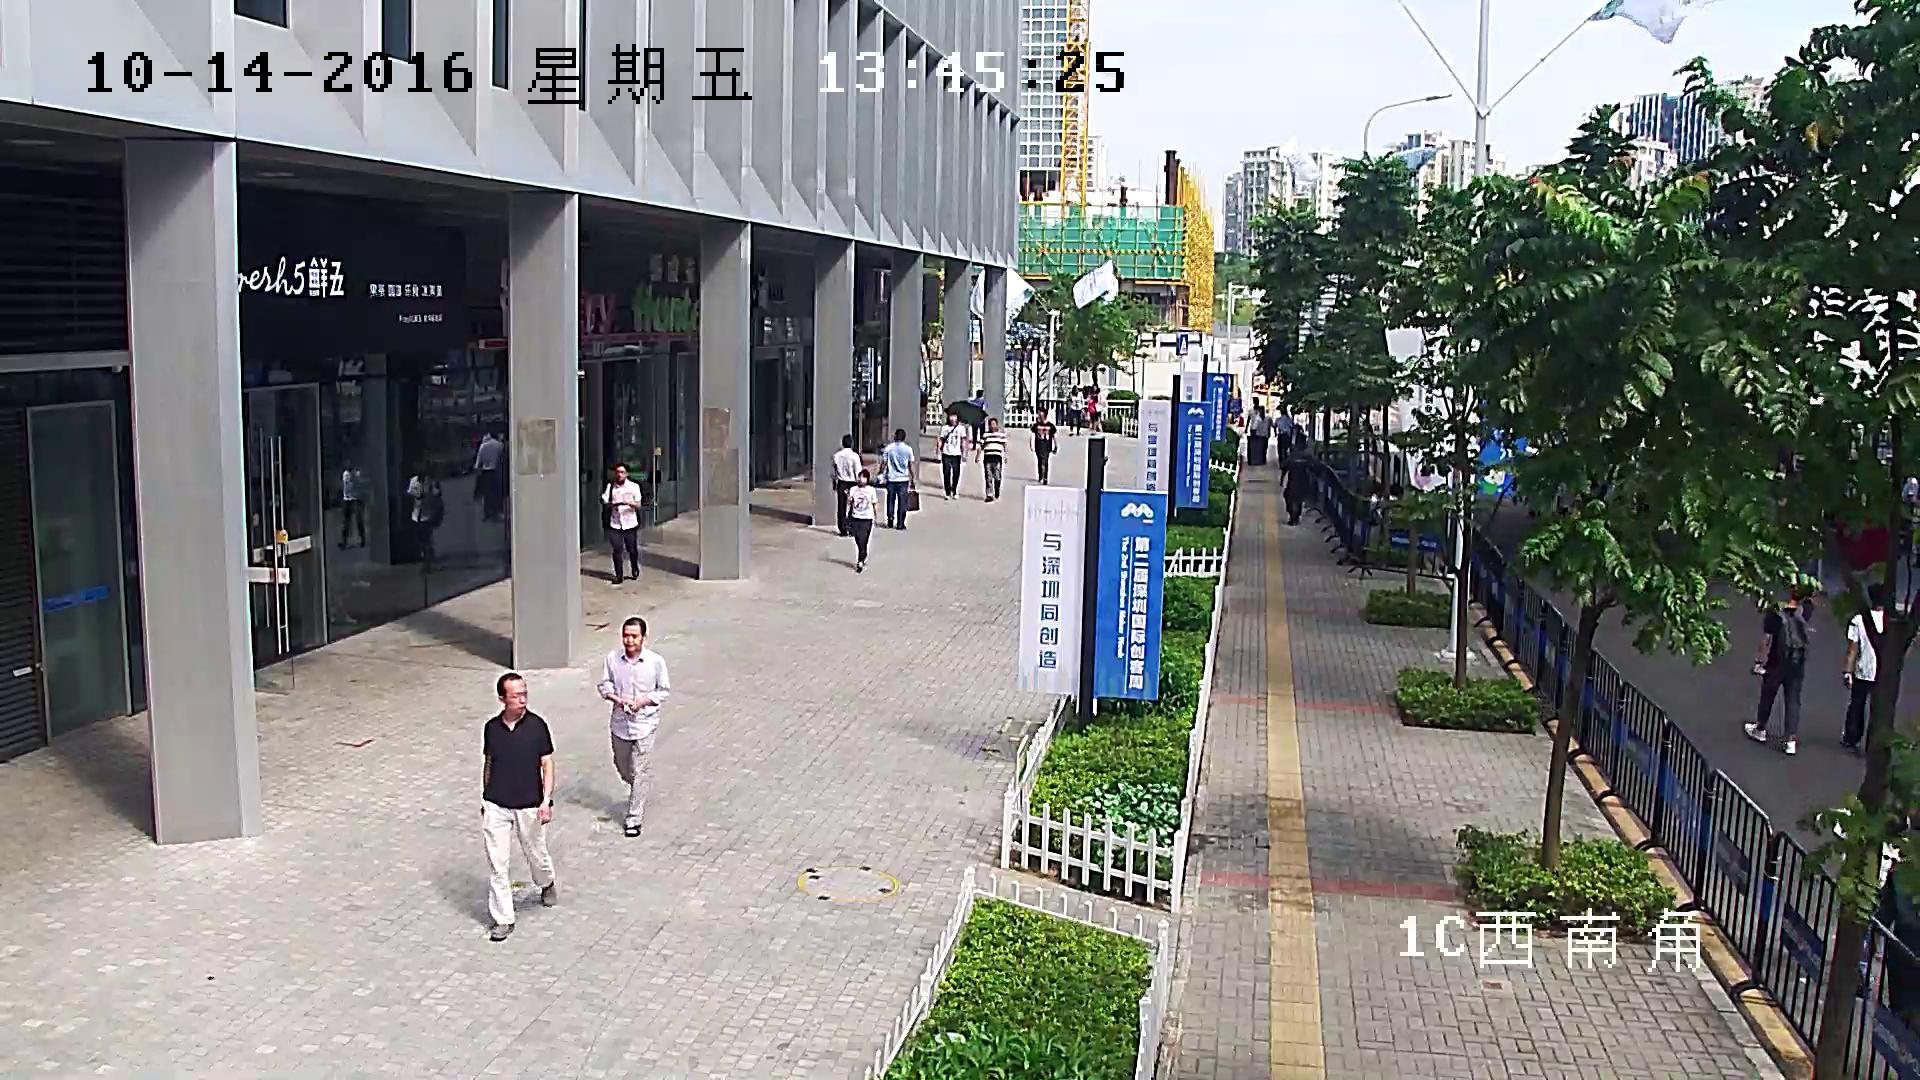person: (480, 672, 557, 943), (595, 616, 670, 837), (1743, 576, 1815, 757), (1837, 581, 1894, 753), (600, 463, 643, 584), (405, 460, 445, 577), (875, 428, 919, 530), (846, 469, 879, 573), (830, 434, 862, 536), (471, 427, 505, 521), (974, 417, 1008, 502), (336, 458, 366, 550), (936, 409, 967, 499), (1029, 407, 1057, 484), (1899, 473, 1920, 569), (1274, 409, 1294, 469), (1087, 384, 1104, 435), (1068, 386, 1085, 435), (1253, 408, 1274, 439), (1244, 396, 1259, 434)
